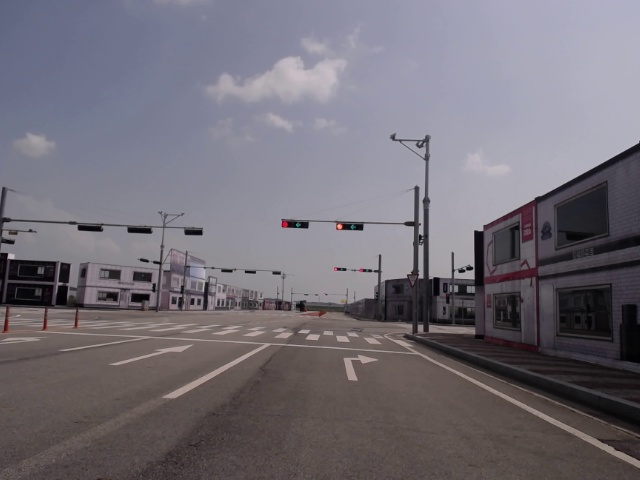left_green_4: (282, 220, 308, 228), (337, 224, 363, 230), (334, 268, 346, 271), (359, 269, 371, 272)
